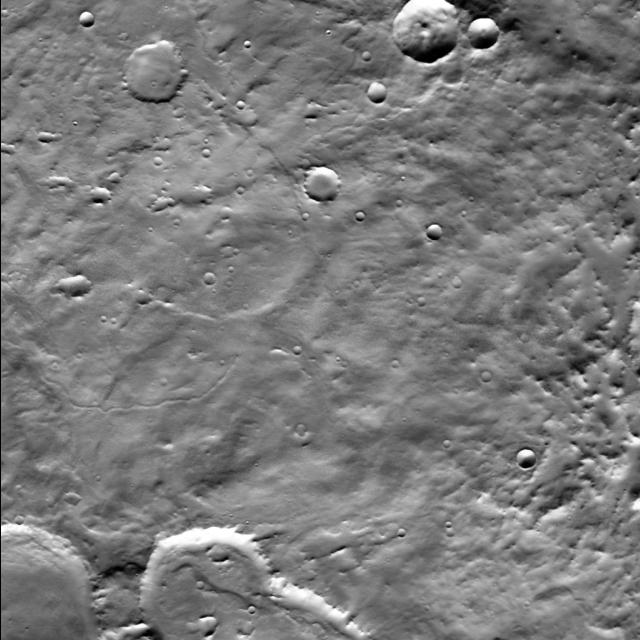crater: (140, 521, 280, 640), (0, 519, 102, 640), (126, 36, 190, 100), (396, 0, 462, 58), (306, 162, 342, 198), (470, 13, 500, 44), (62, 267, 90, 295), (333, 544, 359, 570), (370, 78, 390, 98), (200, 612, 220, 632), (518, 445, 538, 464), (308, 98, 324, 114), (82, 6, 98, 22), (93, 183, 109, 199), (239, 616, 255, 632), (427, 220, 442, 236), (138, 284, 153, 300), (66, 487, 80, 501), (47, 170, 61, 184), (154, 192, 167, 206), (223, 240, 236, 252), (42, 125, 54, 137), (221, 202, 233, 214), (161, 134, 173, 146), (304, 428, 316, 439), (188, 619, 200, 630), (482, 367, 493, 378), (362, 539, 373, 550), (111, 168, 122, 178), (178, 102, 188, 112), (207, 268, 217, 278), (8, 140, 18, 150), (155, 151, 165, 161), (237, 519, 247, 529), (297, 420, 307, 430), (418, 292, 428, 302), (452, 273, 462, 283), (521, 328, 531, 338), (54, 279, 64, 289), (56, 171, 66, 181), (358, 207, 368, 216), (296, 340, 306, 349), (0, 268, 9, 278), (16, 511, 26, 520), (55, 128, 64, 137), (366, 46, 376, 54), (0, 138, 8, 148), (456, 85, 464, 94), (207, 143, 215, 151), (233, 102, 241, 110), (253, 602, 261, 610), (3, 5, 11, 13), (122, 28, 130, 36), (226, 250, 234, 258), (294, 216, 302, 224), (161, 374, 169, 382), (198, 577, 206, 585), (399, 524, 407, 532), (448, 524, 456, 532), (444, 436, 452, 444), (392, 356, 400, 364), (592, 175, 600, 183), (64, 535, 72, 543), (67, 175, 75, 183), (238, 182, 245, 190), (239, 43, 246, 50), (242, 172, 248, 179), (95, 318, 102, 324), (441, 524, 447, 530), (392, 202, 398, 208)
